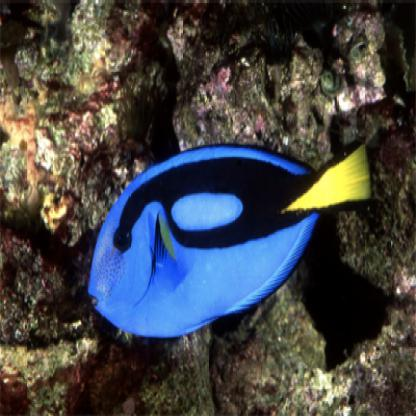Acanthuridae -Surgeonfishes-: (86, 137, 370, 341)
